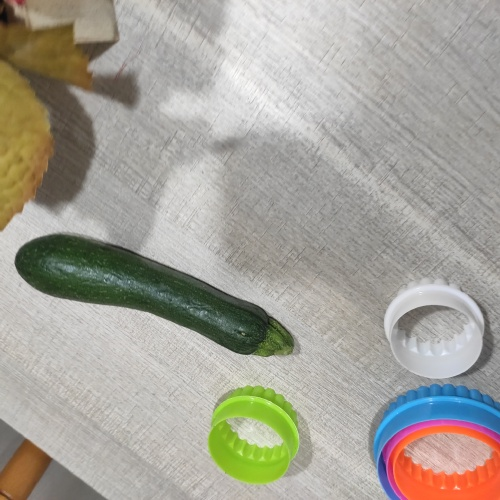zucchine: (16, 230, 300, 369)
